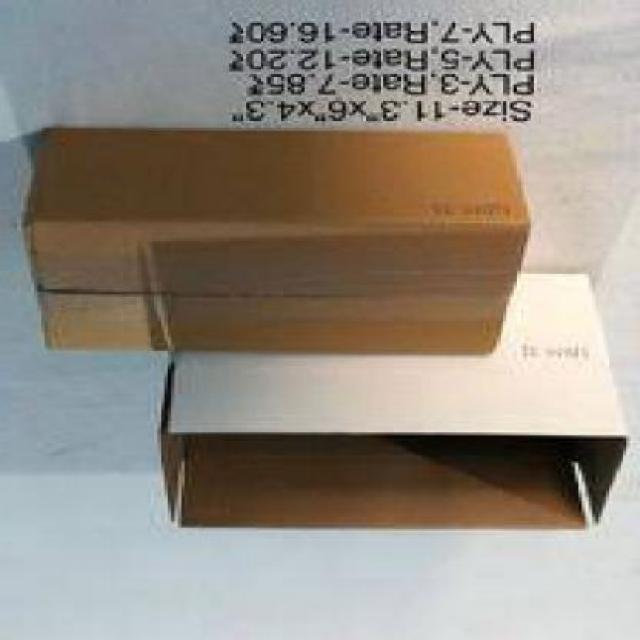box: (157, 274, 637, 532), (28, 128, 539, 359)
